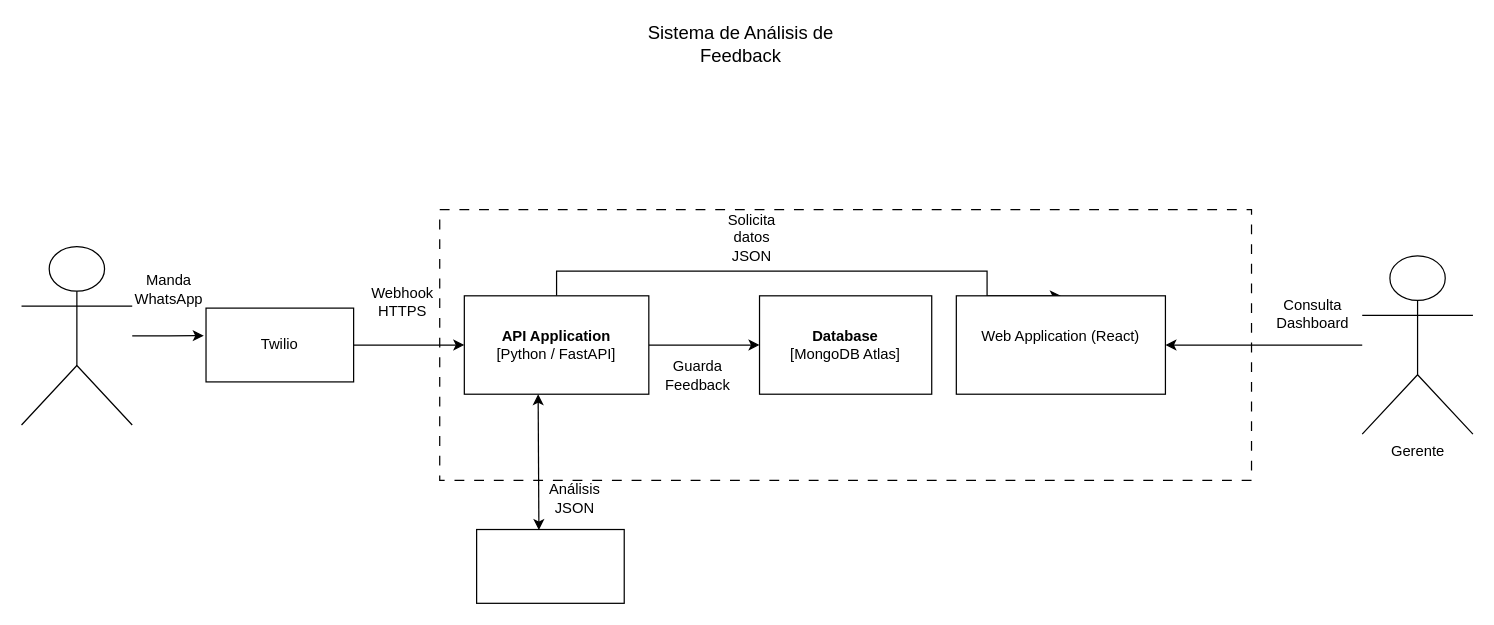
The diagram is 1494 pixels wide and 625 high, and some of its shapes have lost their labels. Each missing label, with the box of its shape:
Cliente: (20, 245, 132, 425)
Modelo IA Local (Scikit-Learn .pkl): (475, 528, 624, 603)
